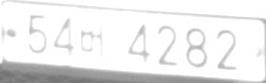2: (216, 29, 238, 70), (157, 25, 177, 65)
4: (53, 17, 76, 55), (128, 23, 150, 62)
5: (27, 14, 48, 53)
8: (185, 27, 207, 67)
버: (80, 21, 103, 56)
